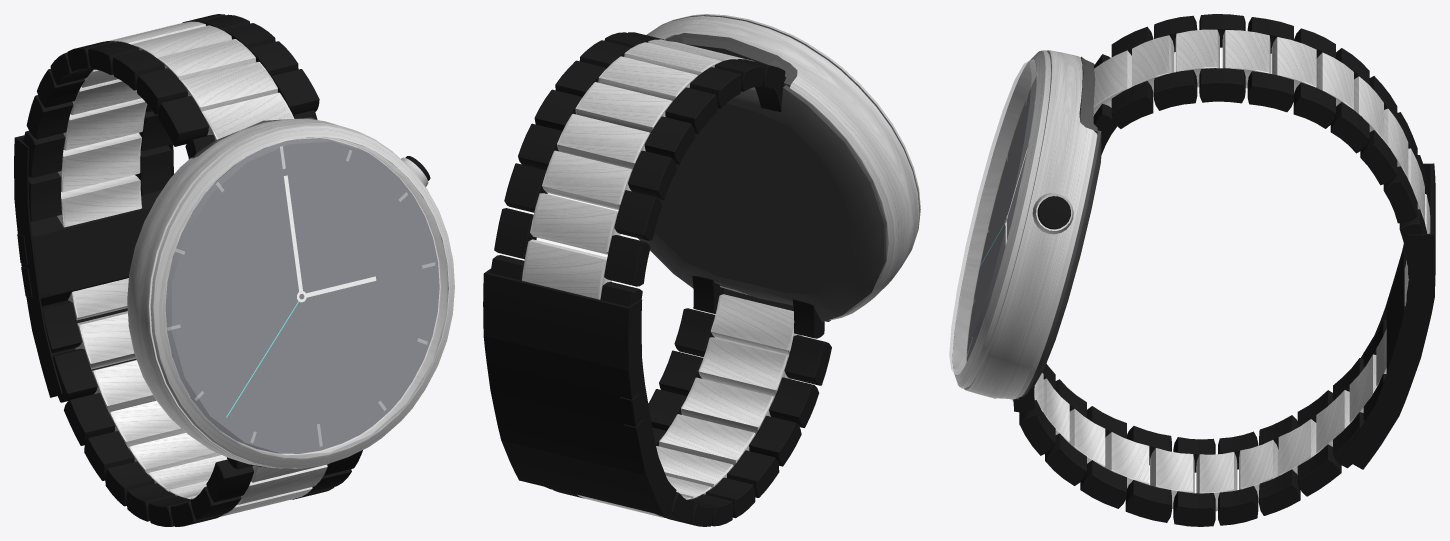
The picture shows the model from 3 angles, left to right: view 1: azimuth 30°, elevation 25°; view 2: azimuth 150°, elevation 25°; view 3: azimuth 270°, elevation 25°; orthographic projection.
Parts seen in each view (by area): view 1: watchGlass, WatchshellTop, FinalStrap1, FinalStrap2, watchShell, strapClip, hrHand1; view 2: FinalStrap1, watchBottom, strapClip, FinalStrap2, watchShell; view 3: FinalStrap2, FinalStrap1, watchShell, watchGlass, strapClip, WatchshellTop, watchBottom.
Boxes of the visible parts, x1,y1,x2,y2 form: watchGlass: [165, 136, 448, 459]; WatchshellTop: [165, 138, 439, 453]; FinalStrap1: [23, 14, 319, 227]; FinalStrap2: [42, 278, 362, 526]; watchShell: [127, 118, 454, 468]; strapClip: [14, 135, 173, 397]; hrHand1: [284, 175, 302, 291]; FinalStrap1: [491, 32, 785, 306]; watchBottom: [638, 33, 886, 322]; strapClip: [483, 268, 675, 515]; FinalStrap2: [545, 276, 831, 526]; watchShell: [646, 14, 920, 319]; FinalStrap2: [1012, 319, 1386, 526]; FinalStrap1: [1093, 14, 1430, 306]; watchShell: [952, 50, 1097, 399]; watchGlass: [949, 60, 1037, 374]; strapClip: [1340, 163, 1435, 469]; WatchshellTop: [967, 76, 1036, 360]; watchBottom: [994, 56, 1101, 399].
Size of the model in its own units: 0.1065 by 0.1489 by 0.1475.
Materials: 8 (1 with a texture image).
